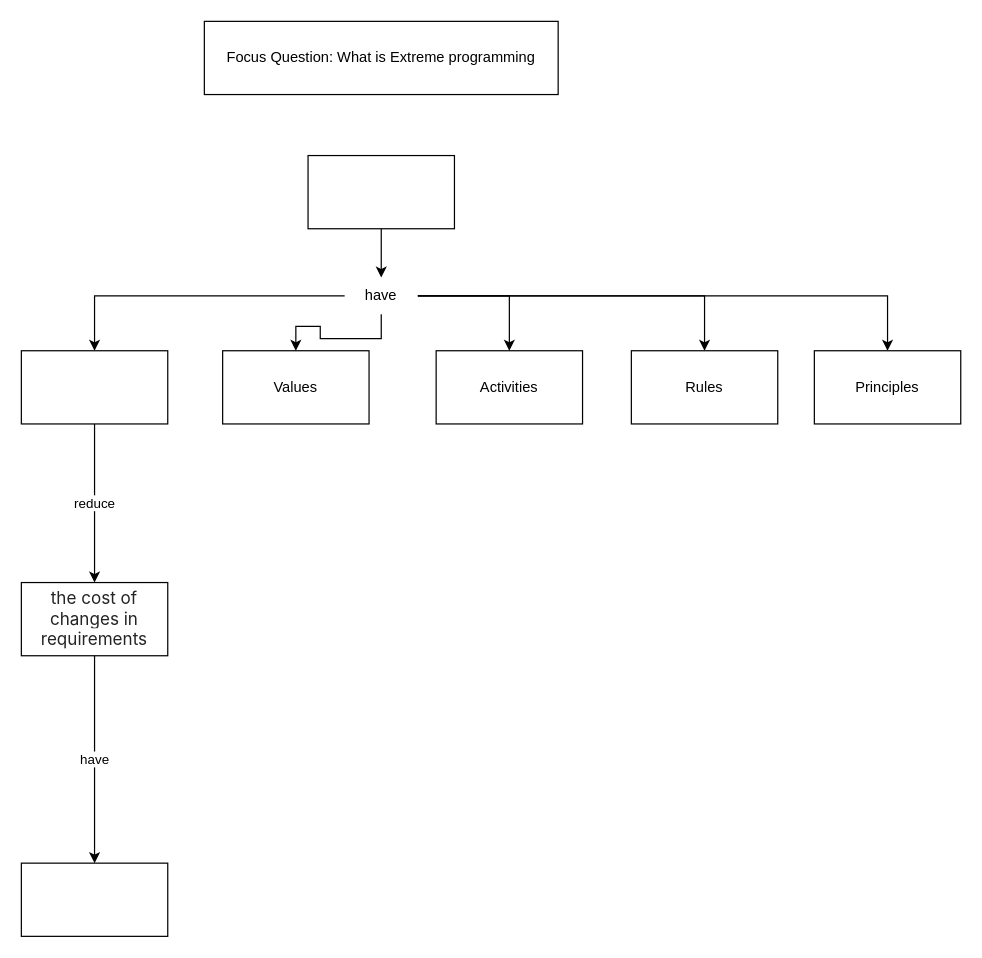
Some shapes in this 982 by 958 pixel diagram are drawn without their labels. The shapes that lost their labels are listed below. From the top down, each one's centre as x and y in pixels, then its label:
pixel 380 191: Extreme Programming
pixel 94 387: Goals
pixel 94 899: multiple short development cycles
